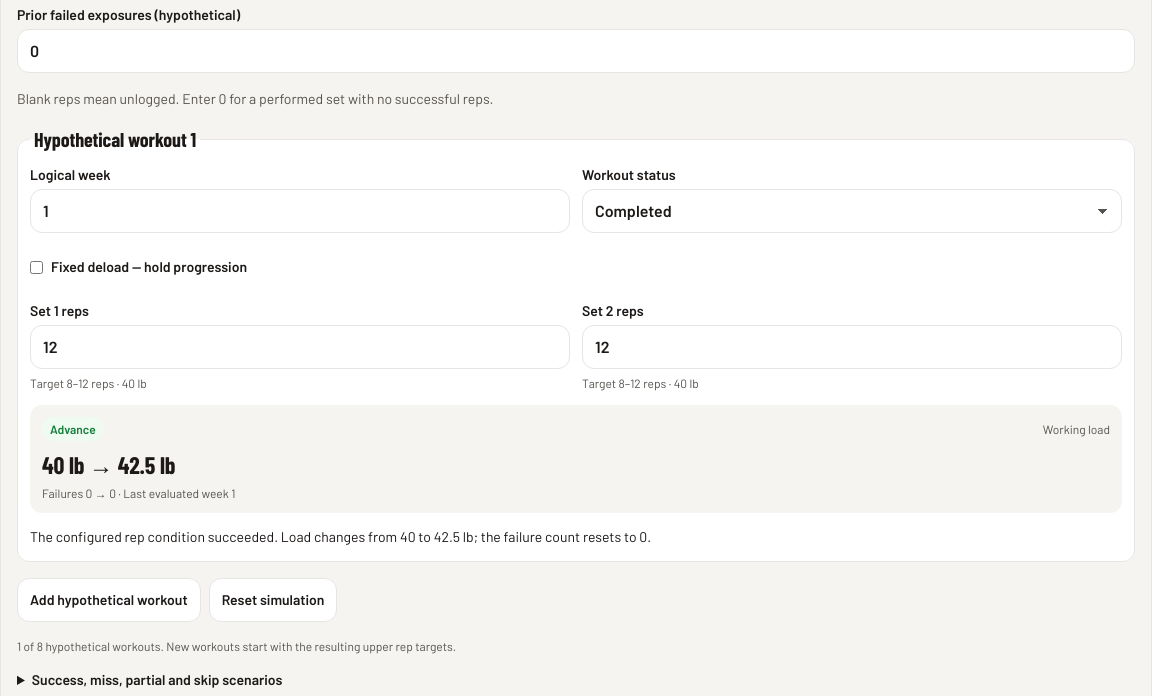
Test case: progression authoring › carries failure counts across trials, then resets only hypothetical work
The image size is (1152, 696).
(page scrolled)
Replace the text in the number field labelled "Set 1 reps" with "0": (300, 347) [30,325,570,369]
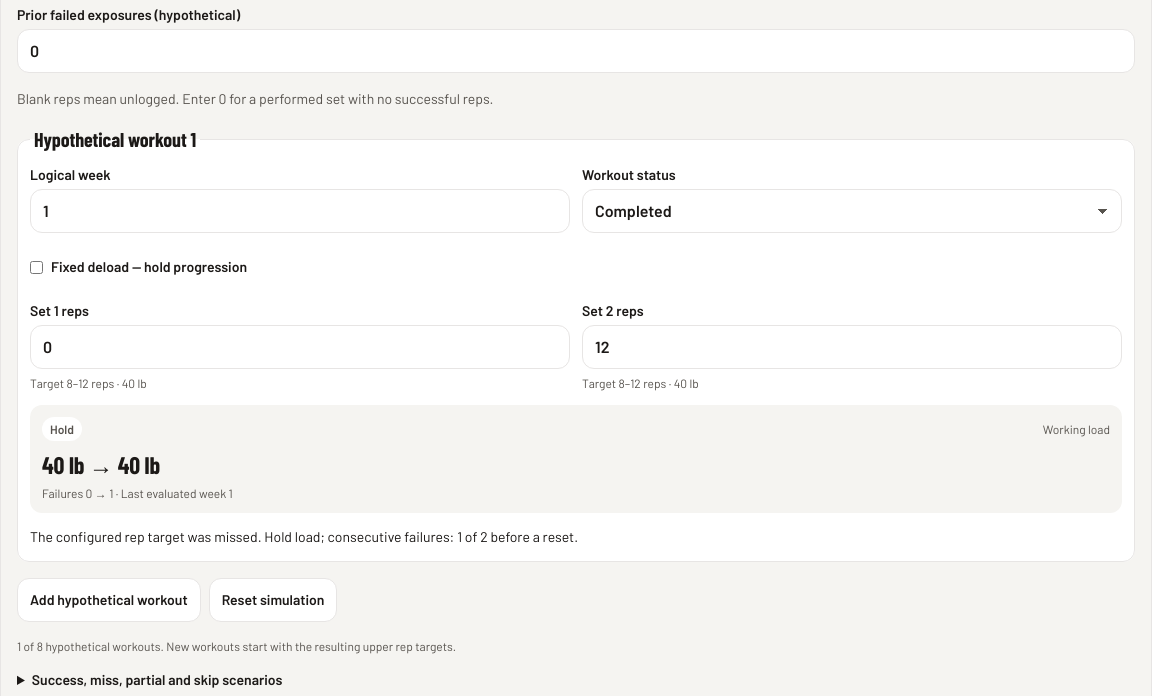
Click the button "Add hypothetical workout": click(109, 600) [17,578,201,622]
(page scrolled)
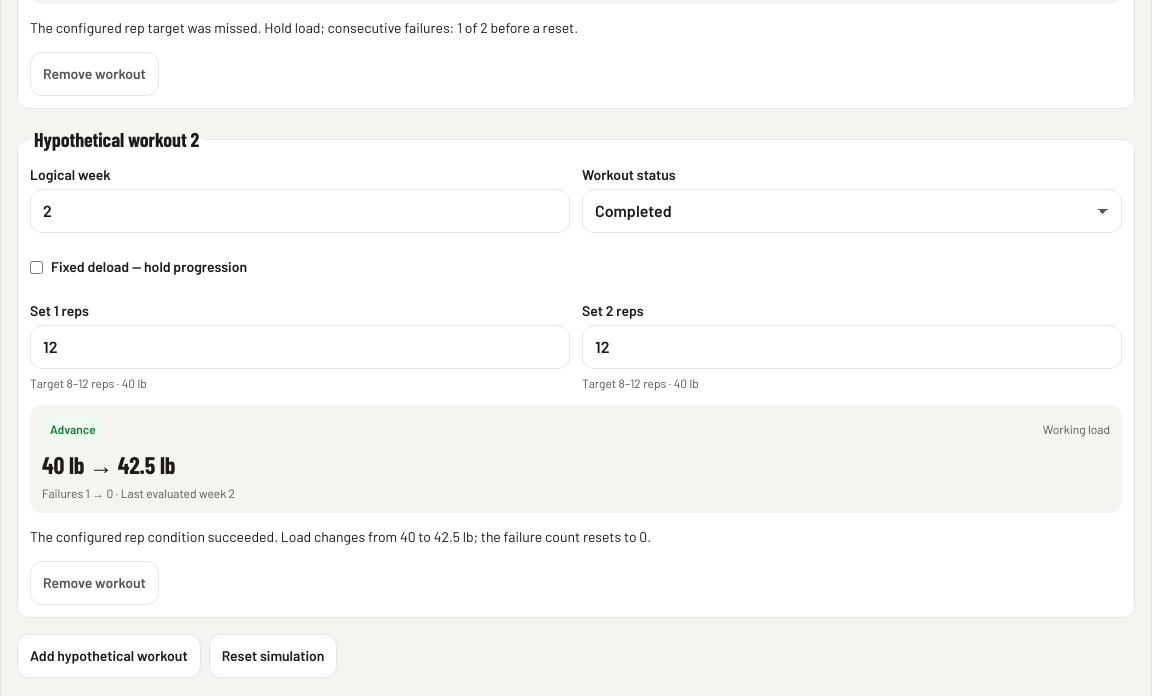
Replace the text in the number field named "Workout 2, set 1 reps" with "0": (300, 347) [30,325,570,369]
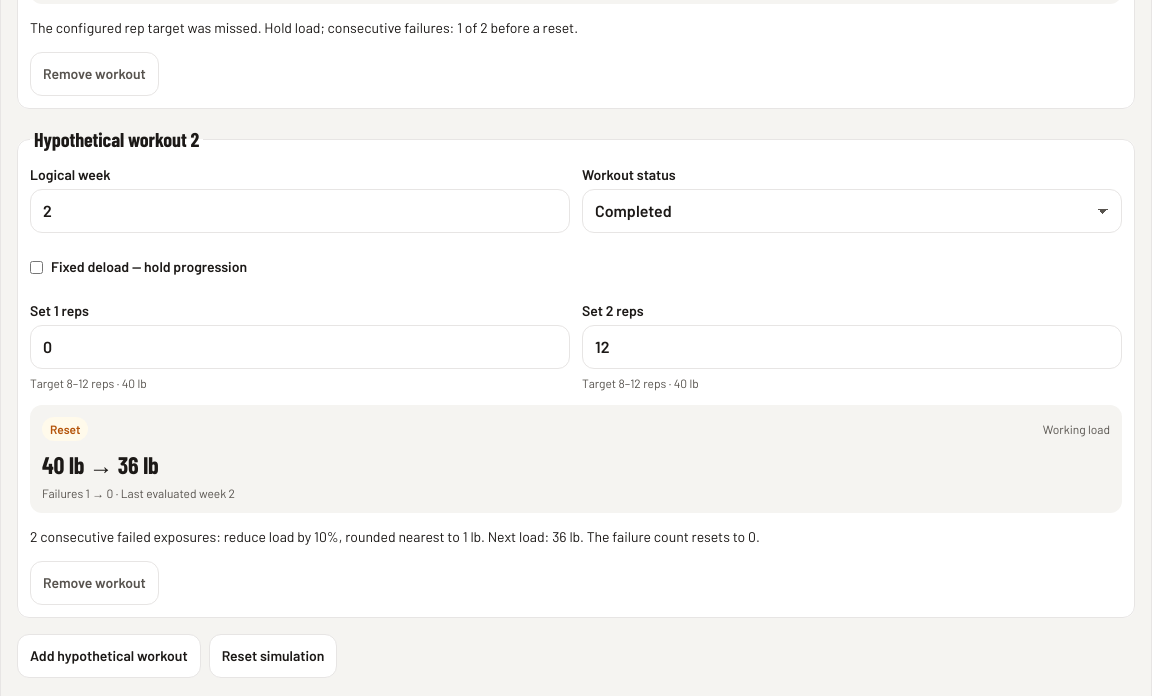
Result: the message named "Workout 2 preview result" shows "2 consecutive failed exposures" at [30,528,760,545]
Result: the text "40 lb → 36 lb" is shown at [42,450,159,479]
Click the button "Reset simulation": click(273, 656) [209,634,337,678]
(page scrolled)
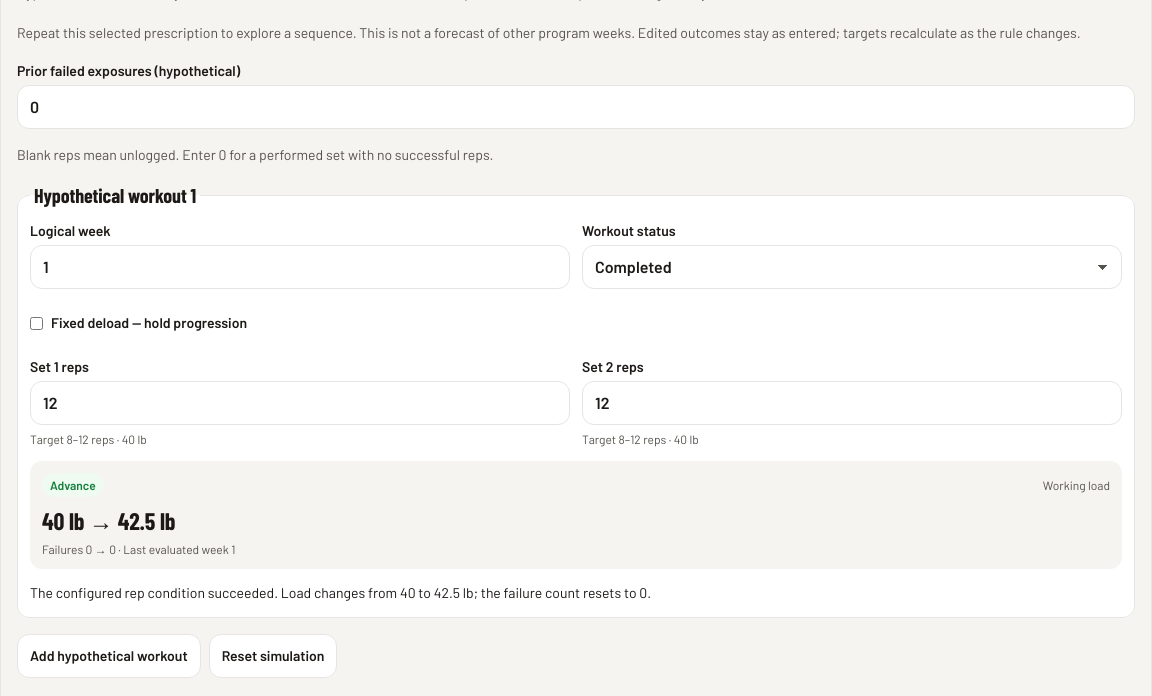
Result: the text "Hypothetical workout 2" is gone
Result: the number field labelled "Set 1 reps" holds "12" at [30,381,570,425]
